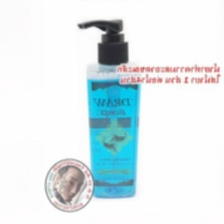cleaning_solution: (74, 14, 143, 202)
